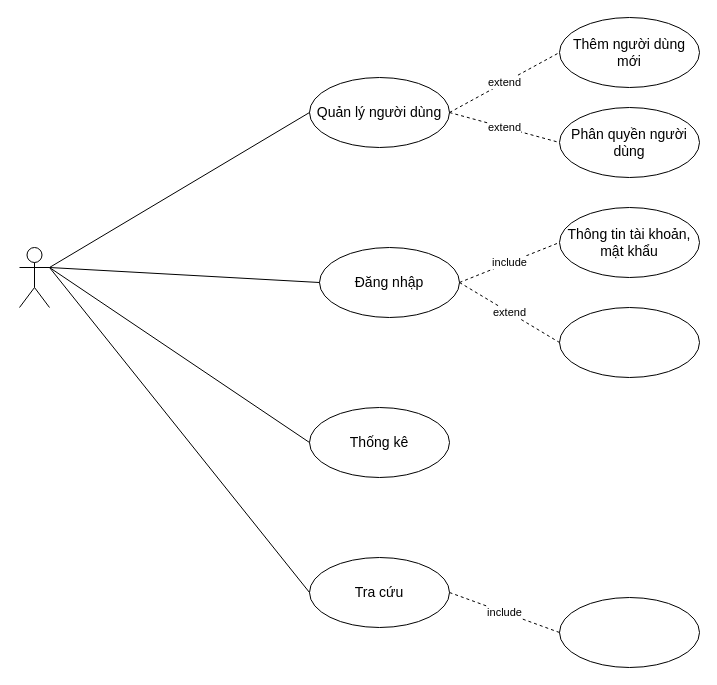
Some shapes in this 717 by 685 pixel diagram are drawn without their labels. The shapes that lost their labels are listed below. From the top down, each one's box as (x1, y1, x2, y2) in pixels, then its label:
(18, 246, 50, 308): Admin
(558, 306, 700, 378): Đăng xuất
(558, 596, 700, 668): Thông tin người dùng
